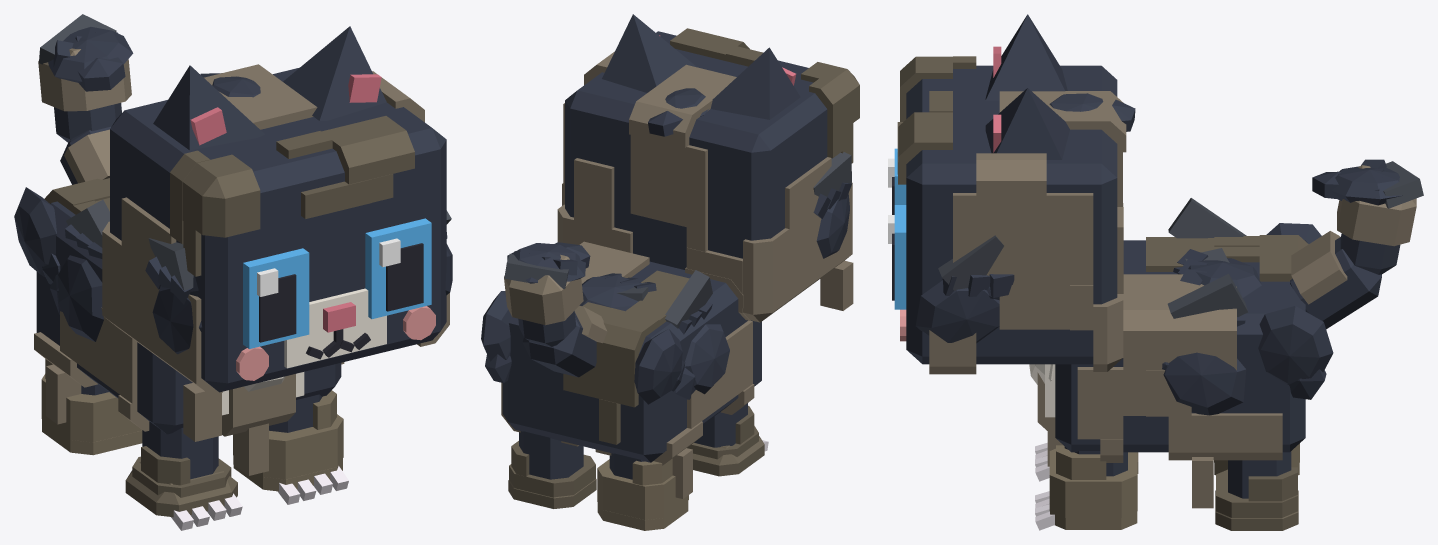
File: CleanACat_Cat_Suds_Dirty.fbx
3 views of the same model, side by side, from view 1: azimuth 30°, elevation 25°; view 2: azimuth 150°, elevation 25°; view 3: azimuth 270°, elevation 25° (orthographic). The views are drawn at different scales.
Parts seen in each view (by area): view 1: CleanACat_Cat_Suds_Dirty_Head, CleanACat_Cat_Suds_Dirty_Mud01, CleanACat_Cat_Suds_Dirty_Mud03, CleanACat_Cat_Suds_Dirty_Mud06, CleanACat_Cat_Suds_Dirty_Body, CleanACat_Cat_Suds_Dirty_Eye2, CleanACat_Cat_Suds_Dirty_Eye1, CleanACat_Cat_Suds_Dirty_EarL, CleanACat_Cat_Suds_Dirty_Mud15, CleanACat_Cat_Suds_Dirty_EarR, CleanACat_Cat_Suds_Dirty_Mud16, CleanACat_Cat_Suds_Dirty_Mud07 (+19 smaller); view 2: CleanACat_Cat_Suds_Dirty_Head, CleanACat_Cat_Suds_Dirty_Body, CleanACat_Cat_Suds_Dirty_Mud01, CleanACat_Cat_Suds_Dirty_Mud04, CleanACat_Cat_Suds_Dirty_Mud09, CleanACat_Cat_Suds_Dirty_Mud18, CleanACat_Cat_Suds_Dirty_Mud05, CleanACat_Cat_Suds_Dirty_EarL, CleanACat_Cat_Suds_Dirty_Mud10, CleanACat_Cat_Suds_Dirty_EarR, CleanACat_Cat_Suds_Dirty_Tail, CleanACat_Cat_Suds_Dirty_Mud06 (+23 smaller); view 3: CleanACat_Cat_Suds_Dirty_Head, CleanACat_Cat_Suds_Dirty_Mud02, CleanACat_Cat_Suds_Dirty_Body, CleanACat_Cat_Suds_Dirty_Mud08, CleanACat_Cat_Suds_Dirty_Mud11, CleanACat_Cat_Suds_Dirty_Mud15, CleanACat_Cat_Suds_Dirty_Fluff09, CleanACat_Cat_Suds_Dirty_Tail, CleanACat_Cat_Suds_Dirty_Mud17, CleanACat_Cat_Suds_Dirty_EarL, CleanACat_Cat_Suds_Dirty_Fluff05, CleanACat_Cat_Suds_Dirty_EarR (+23 smaller).
Boxes of the visible parts, x1,y1,x2,y2 form: CleanACat_Cat_Suds_Dirty_Head: (110, 67, 446, 392); CleanACat_Cat_Suds_Dirty_Mud01: (102, 197, 222, 441); CleanACat_Cat_Suds_Dirty_Mud03: (276, 116, 414, 218); CleanACat_Cat_Suds_Dirty_Mud06: (170, 150, 260, 276); CleanACat_Cat_Suds_Dirty_Body: (36, 201, 341, 434); CleanACat_Cat_Suds_Dirty_Eye2: (243, 248, 309, 348); CleanACat_Cat_Suds_Dirty_Eye1: (365, 218, 431, 319); CleanACat_Cat_Suds_Dirty_EarL: (283, 26, 386, 120); CleanACat_Cat_Suds_Dirty_Mud15: (233, 390, 343, 491); CleanACat_Cat_Suds_Dirty_EarR: (153, 65, 264, 150); CleanACat_Cat_Suds_Dirty_Mud16: (125, 446, 237, 517); CleanACat_Cat_Suds_Dirty_Mud07: (222, 374, 295, 475); CleanACat_Cat_Suds_Dirty_Head: (565, 31, 832, 269); CleanACat_Cat_Suds_Dirty_Body: (502, 261, 761, 462); CleanACat_Cat_Suds_Dirty_Mud01: (686, 157, 853, 322); CleanACat_Cat_Suds_Dirty_Mud04: (629, 64, 736, 251); CleanACat_Cat_Suds_Dirty_Mud09: (563, 297, 660, 444); CleanACat_Cat_Suds_Dirty_Mud18: (597, 458, 688, 530); CleanACat_Cat_Suds_Dirty_Mud05: (557, 158, 632, 253); CleanACat_Cat_Suds_Dirty_EarL: (602, 14, 696, 92); CleanACat_Cat_Suds_Dirty_Mud10: (685, 267, 754, 428); CleanACat_Cat_Suds_Dirty_EarR: (710, 47, 800, 119); CleanACat_Cat_Suds_Dirty_Tail: (518, 311, 596, 377); CleanACat_Cat_Suds_Dirty_Mud06: (801, 62, 859, 163); CleanACat_Cat_Suds_Dirty_Head: (900, 65, 1117, 364); CleanACat_Cat_Suds_Dirty_Mud02: (929, 153, 1093, 374); CleanACat_Cat_Suds_Dirty_Body: (1045, 240, 1305, 452); CleanACat_Cat_Suds_Dirty_Mud08: (1123, 274, 1236, 416); CleanACat_Cat_Suds_Dirty_Mud11: (1168, 413, 1282, 508); CleanACat_Cat_Suds_Dirty_Mud15: (1049, 445, 1137, 529); CleanACat_Cat_Suds_Dirty_Fluff09: (1258, 306, 1333, 399); CleanACat_Cat_Suds_Dirty_Tail: (1290, 233, 1400, 329); CleanACat_Cat_Suds_Dirty_Mud17: (1215, 467, 1298, 530); CleanACat_Cat_Suds_Dirty_EarL: (985, 88, 1069, 159); CleanACat_Cat_Suds_Dirty_Fluff05: (1162, 352, 1246, 415); CleanACat_Cat_Suds_Dirty_EarR: (985, 14, 1067, 100).
Bounding box in the file's own units: 1.13 × 1.86 × 2.03.
1 material, 1 textured.
